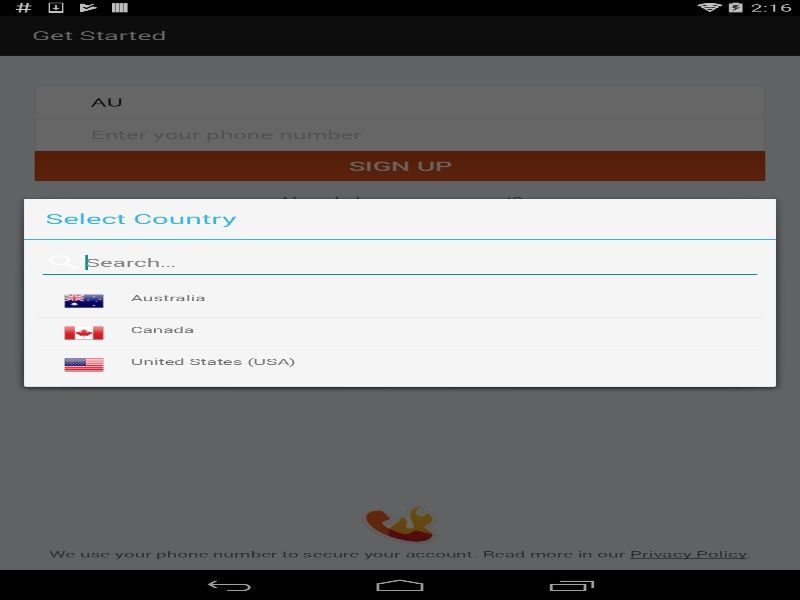Input: (37, 246, 762, 279)
